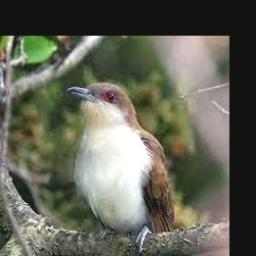Cuckoo: (66, 83, 186, 256)
